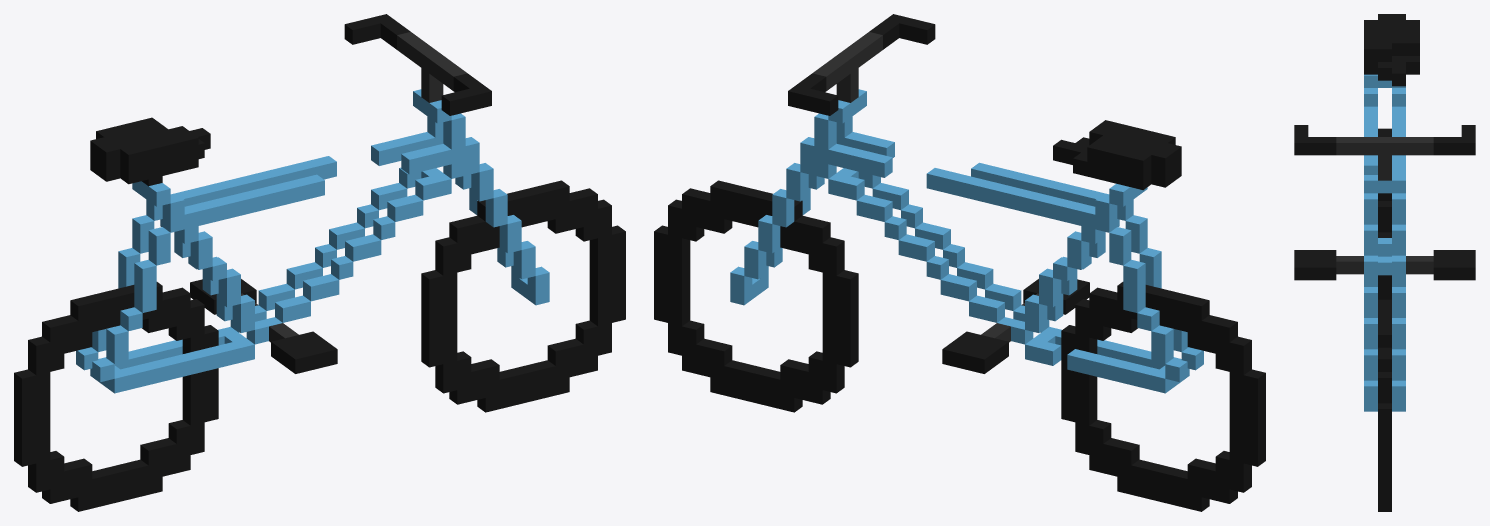
Rendered from Background_A_bicycle_01.FBX.
The picture shows the model from 3 angles, left to right: view 1: azimuth 30°, elevation 25°; view 2: azimuth 150°, elevation 25°; view 3: azimuth 270°, elevation 25°; orthographic projection. The views are drawn at different scales.
Parts seen in each view (by area): view 1: Load_A-11; view 2: Load_A-11; view 3: Load_A-11.
Part boxes in pixels (x1=…): Load_A-11: x1=14, y1=14, x2=625, y2=511; Load_A-11: x1=654, y1=14, x2=1265, y2=511; Load_A-11: x1=1294, y1=14, x2=1475, y2=511.
Bounding box in the file's own units: 4.3 × 2.5 × 1.3.
Materials: 1 (1 with a texture image).
